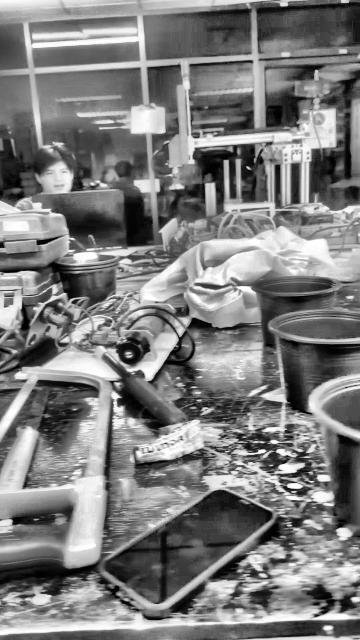pot: (268, 309, 359, 412), (253, 275, 340, 347), (317, 380, 360, 523), (53, 260, 122, 301)
